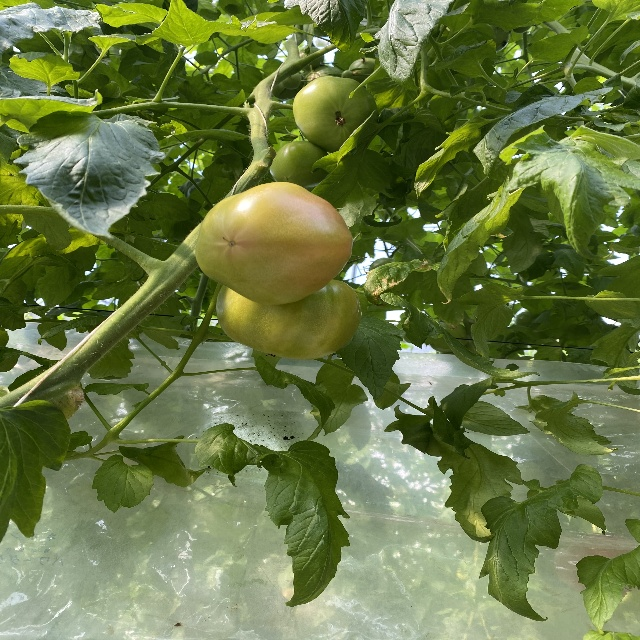b_green: (293, 76, 378, 153), (269, 141, 332, 188)
b_half_ripened: (196, 182, 354, 306), (216, 280, 362, 359)
